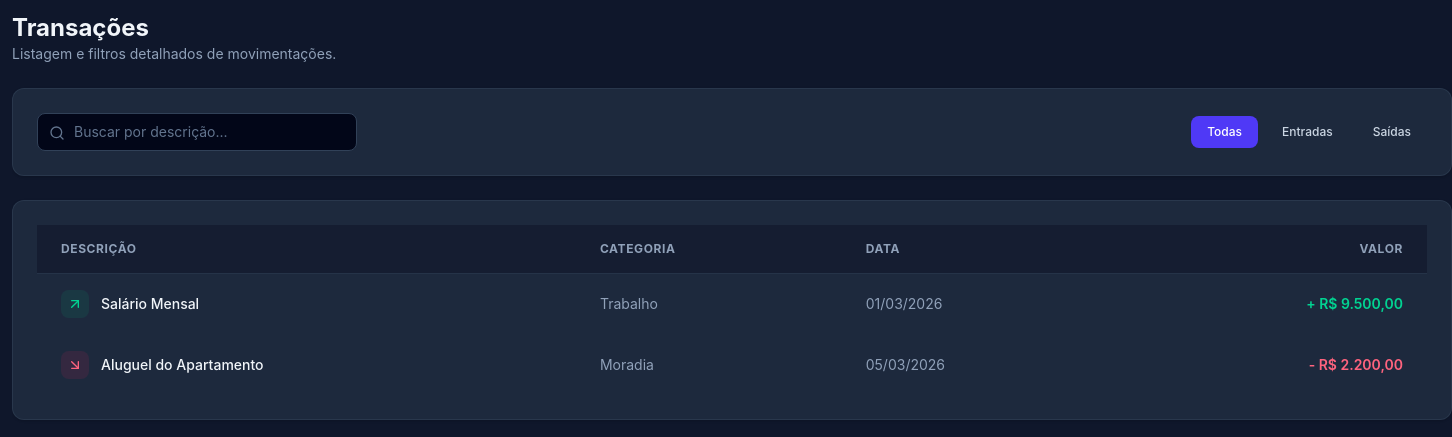
Test case: TransactionsPage (Conformidade com Spec RF04) › deve filtrar transações por busca textual no título
Type "Salário" into the field with placeholder "Buscar por descrição..." at (197, 132), box [37,113,357,151]
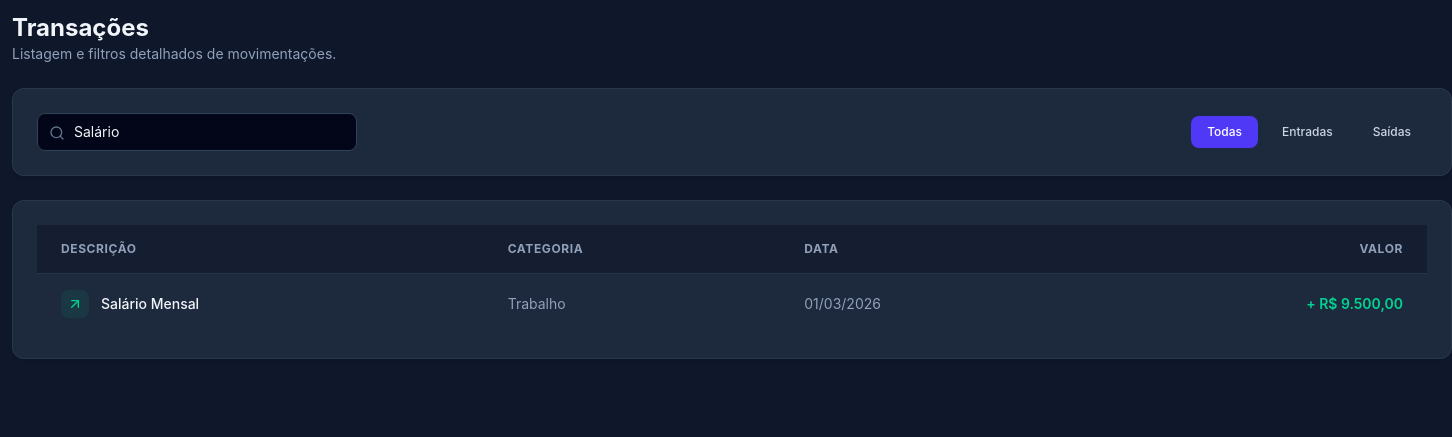
Expected: the text "Salário Mensal" is shown, [37,274,484,334]
Result: the text "Aluguel do Apartamento" is gone
